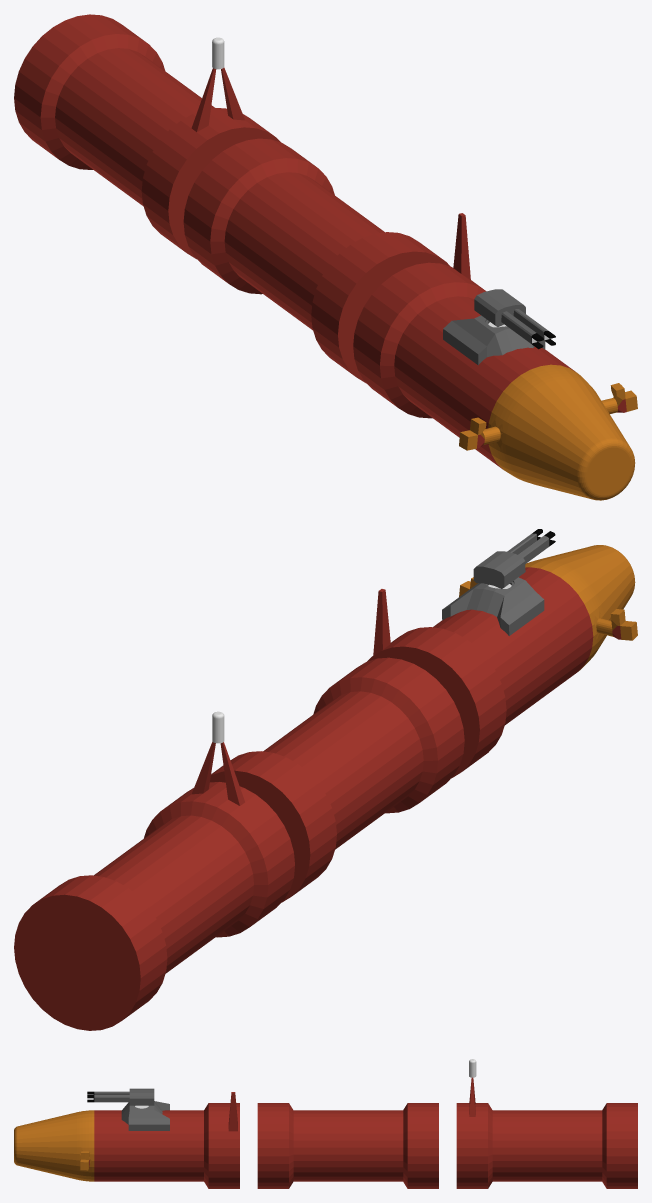
The model's file is Snake thing.fbx.
3 views of the same model, one above another, from view 1: azimuth 30°, elevation 25°; view 2: azimuth 150°, elevation 25°; view 3: azimuth 270°, elevation 25° (orthographic). The views are drawn at different scales.
Parts seen in each view (by area): view 1: Front, End, Middle, Gun mount, Gun; view 2: End, Middle, Front, Gun mount, Gun; view 3: Front, End, Middle, Gun mount, Gun.
Boxes of the visible parts, bbox=[...] form: Front: bbox=[353, 213, 637, 500]; End: bbox=[14, 14, 280, 259]; Middle: bbox=[183, 138, 450, 383]; Gun mount: bbox=[443, 315, 545, 365]; Gun: bbox=[474, 289, 555, 349]; End: bbox=[14, 711, 294, 1030]; Middle: bbox=[210, 657, 464, 902]; Front: bbox=[367, 545, 637, 778]; Gun mount: bbox=[442, 577, 544, 635]; Gun: bbox=[473, 529, 555, 588]; Front: bbox=[14, 1092, 239, 1188]; End: bbox=[456, 1059, 637, 1188]; Middle: bbox=[257, 1103, 438, 1188]; Gun mount: bbox=[121, 1101, 169, 1130]; Gun: bbox=[87, 1088, 154, 1105].
Size of the model in its own units: 329 by 1742 by 385.
